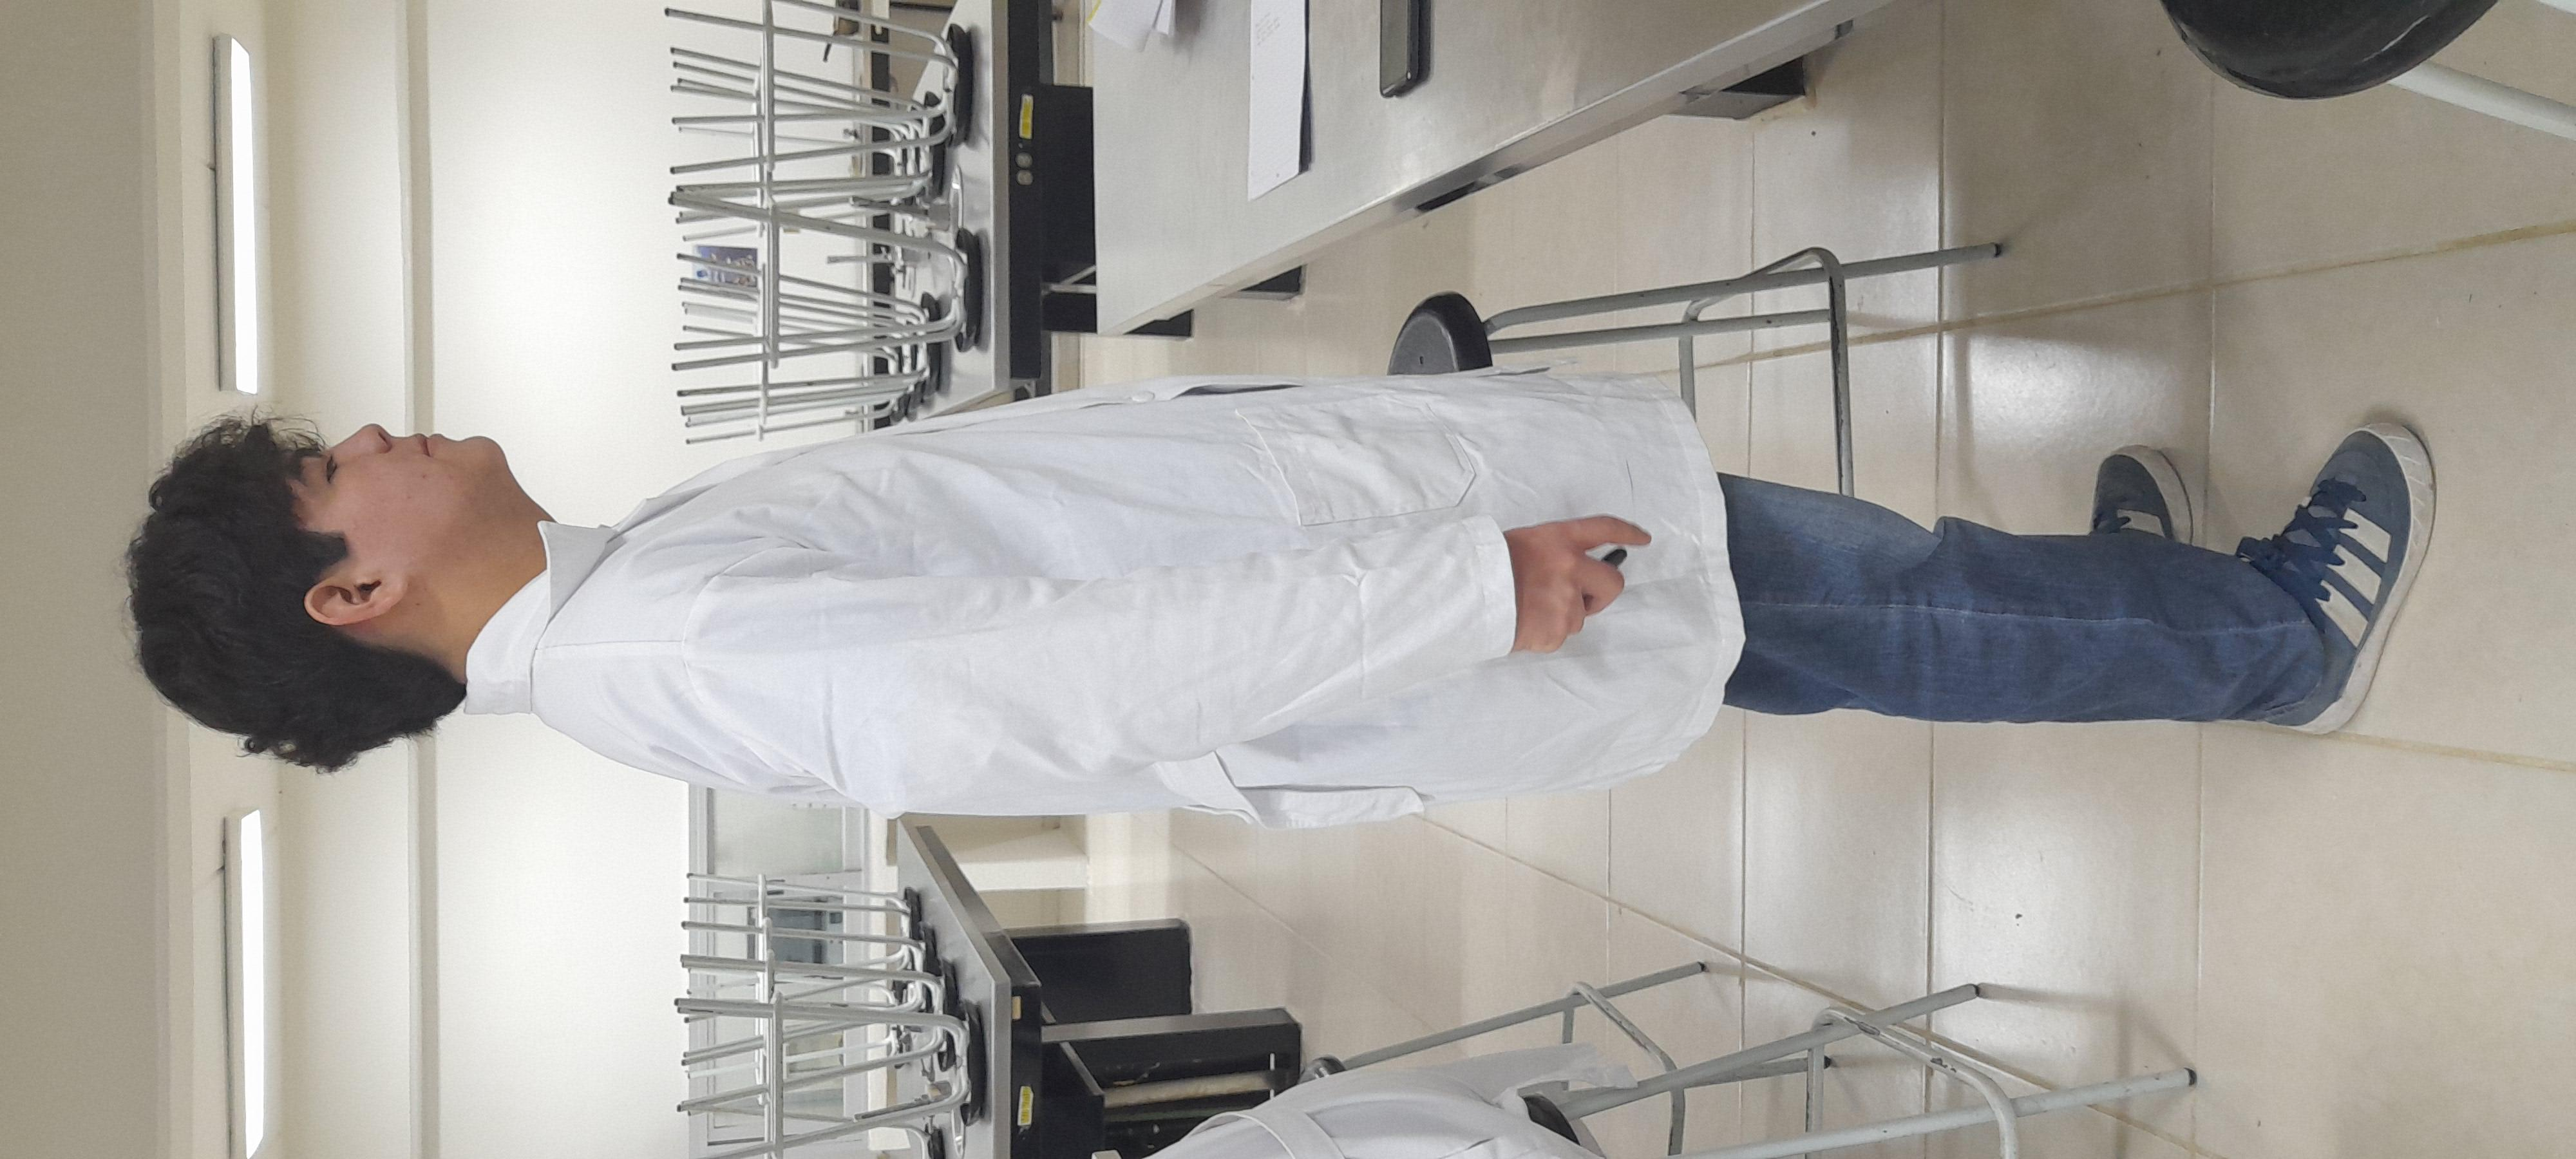Bata-Correcta: (738, 57, 1748, 1095)
